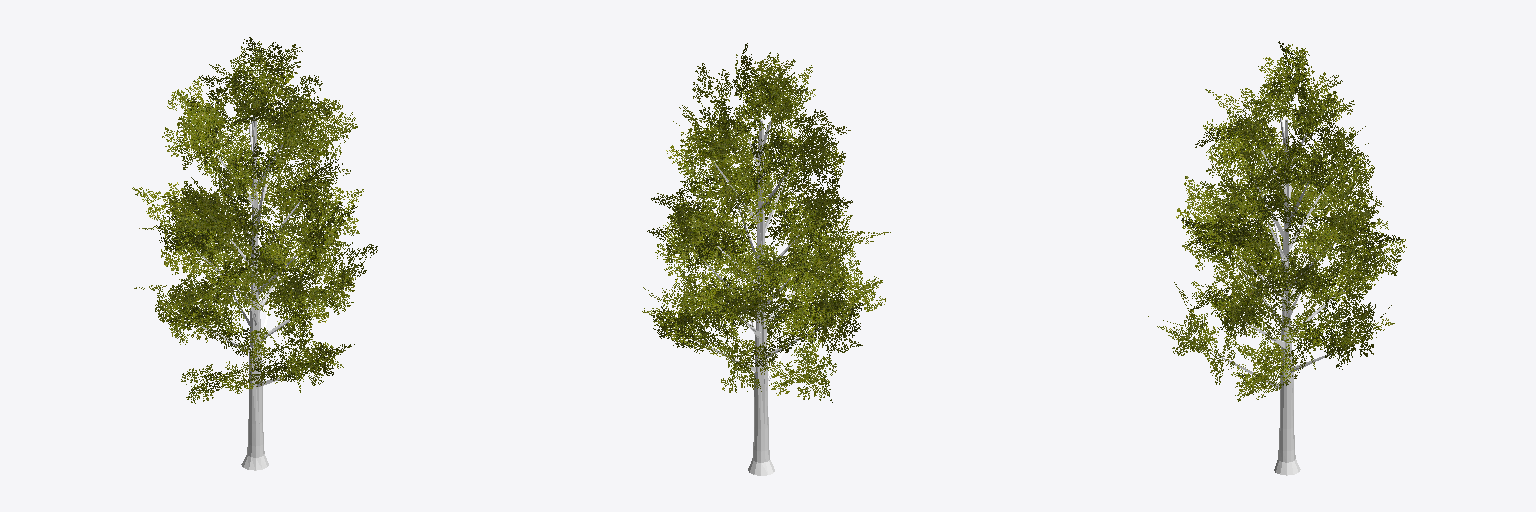
3 renders of one model, left to right at view 1: azimuth 30°, elevation 25°; view 2: azimuth 150°, elevation 25°; view 3: azimuth 270°, elevation 25°, orthographic.
Visible parts, largest first — view 1: Foliage__leafcard, Bark; view 2: Foliage__leafcard, Bark; view 3: Foliage__leafcard, Bark.
Boxes of the visible parts, box(x1,y1,x2,y2) form: Foliage__leafcard: box(132, 37, 377, 403); Bark: box(197, 117, 315, 470); Foliage__leafcard: box(642, 43, 890, 402); Bark: box(696, 119, 821, 475); Foliage__leafcard: box(1148, 41, 1406, 401); Bark: box(1214, 118, 1344, 475).
Bounding box in the file's own units: 7.06 × 13 × 7.38.
2 materials, 1 textured.